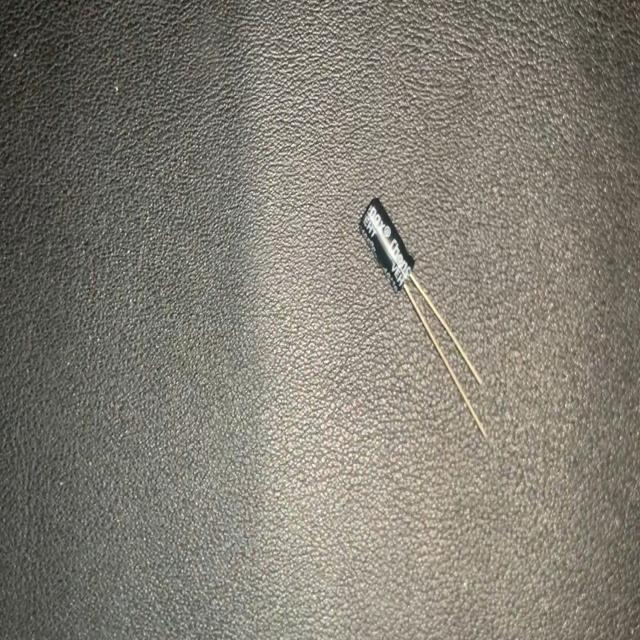capacitor: (356, 194, 489, 446)
